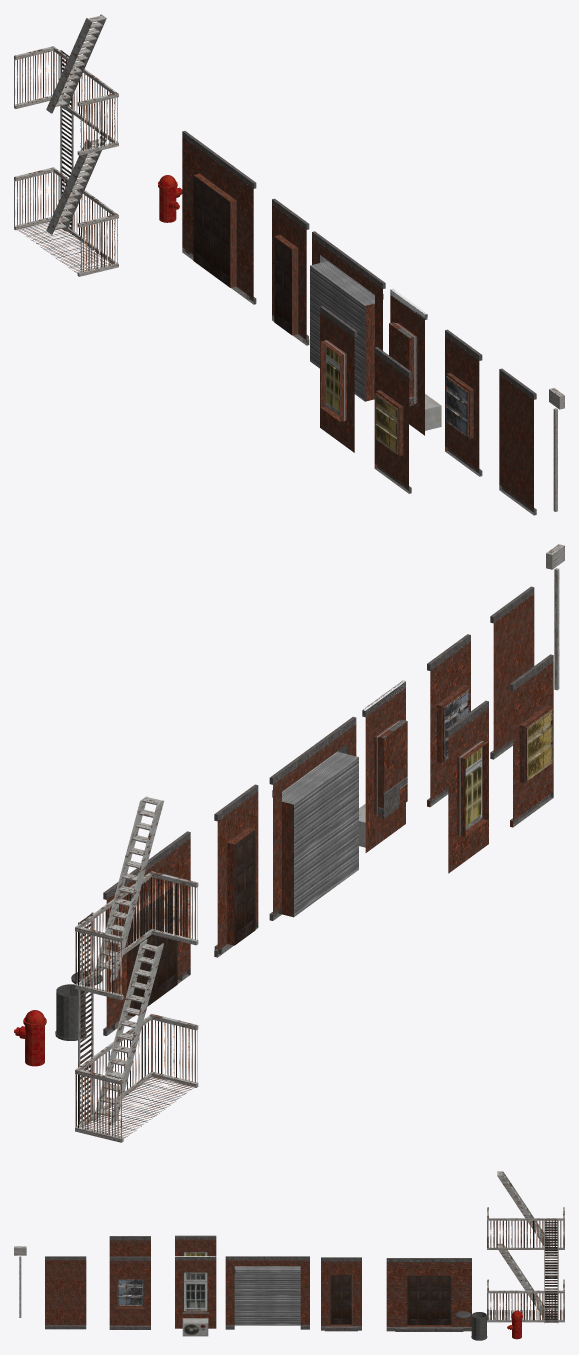
Rendered from wall_set.glb.
The picture shows the model from 3 angles, top to bottom: view 1: azimuth 30°, elevation 25°; view 2: azimuth 150°, elevation 25°; view 3: azimuth 270°, elevation 25°; orthographic projection. The views are drawn at different scales.
Visible parts, largest first — view 1: Double-Door_25, Blinds.001_15, Door_21, Wall_22, Bottom-Window.002_14, Bottom-Window.001_29, Window-Top-Dark.001_16, Window-Top-Dark_34, Jail_4, Jail.001_1, Window-Top-Dark.003_13, Ledder-Floor_2 (+7 smaller); view 2: Blinds.001_15, Double-Door_25, Door_21, Bottom-Window.002_14, Window-Top-Dark.001_16, Window-Top-Dark_34, Wall_22, Bottom-Window.001_29, Jail_4, Jail.001_1, Window-Top-Dark.003_13, Stairs-Sides_10 (+11 smaller); view 3: Double-Door_25, Blinds.001_15, Wall_22, Bottom-Window.001_29, Door_21, Window-Top-Dark.003_13, Ledder_7, Jail_4, Jail.001_1, Window-Top-Dark.001_16, Bottom-Window.002_14, Stairs-Sides_10 (+8 smaller).
Part boxes in pixels (left/top/right/bottom): Double-Door_25: left=182, top=131, right=256, bottom=304; Blinds.001_15: left=310, top=231, right=385, bottom=401; Door_21: left=272, top=198, right=309, bottom=345; Wall_22: left=499, top=368, right=536, bottom=515; Bottom-Window.002_14: left=374, top=347, right=411, bottom=493; Bottom-Window.001_29: left=445, top=329, right=482, bottom=476; Window-Top-Dark.001_16: left=320, top=306, right=357, bottom=452; Window-Top-Dark_34: left=389, top=289, right=427, bottom=435; Jail_4: left=14, top=51, right=117, bottom=151; Jail.001_1: left=14, top=172, right=117, bottom=272; Window-Top-Dark.003_13: left=390, top=289, right=427, bottom=433; Ledder-Floor_2: left=16, top=221, right=112, bottom=273; Blinds.001_15: left=269, top=717, right=358, bottom=920; Double-Door_25: left=103, top=831, right=190, bottom=1035; Door_21: left=214, top=784, right=258, bottom=957; Bottom-Window.002_14: left=510, top=654, right=553, bottom=827; Window-Top-Dark.001_16: left=445, top=700, right=488, bottom=873; Window-Top-Dark_34: left=363, top=680, right=407, bottom=852; Wall_22: left=490, top=586, right=534, bottom=759; Bottom-Window.001_29: left=427, top=634, right=470, bottom=807; Jail_4: left=75, top=877, right=197, bottom=995; Jail.001_1: left=75, top=1019, right=197, bottom=1138; Window-Top-Dark.003_13: left=362, top=680, right=405, bottom=834; Stairs-Sides_10: left=93, top=796, right=163, bottom=982; Double-Door_25: left=386, top=1258, right=471, bottom=1331; Blinds.001_15: left=225, top=1256, right=309, bottom=1329; Wall_22: left=45, top=1256, right=86, bottom=1329; Bottom-Window.001_29: left=109, top=1256, right=150, bottom=1329; Door_21: left=321, top=1257, right=361, bottom=1331; Window-Top-Dark.003_13: left=175, top=1256, right=216, bottom=1328; Ledder_7: left=545, top=1219, right=557, bottom=1322; Jail_4: left=487, top=1220, right=564, bottom=1247; Jail.001_1: left=487, top=1293, right=564, bottom=1320; Window-Top-Dark.001_16: left=175, top=1235, right=216, bottom=1256; Bottom-Window.002_14: left=109, top=1236, right=150, bottom=1256; Stairs-Sides_10: left=497, top=1171, right=551, bottom=1246.
Size of what is drawn, in the model's own units: 5.52 by 9.94 by 34.02.
Materials: 20 (19 with a texture image).
